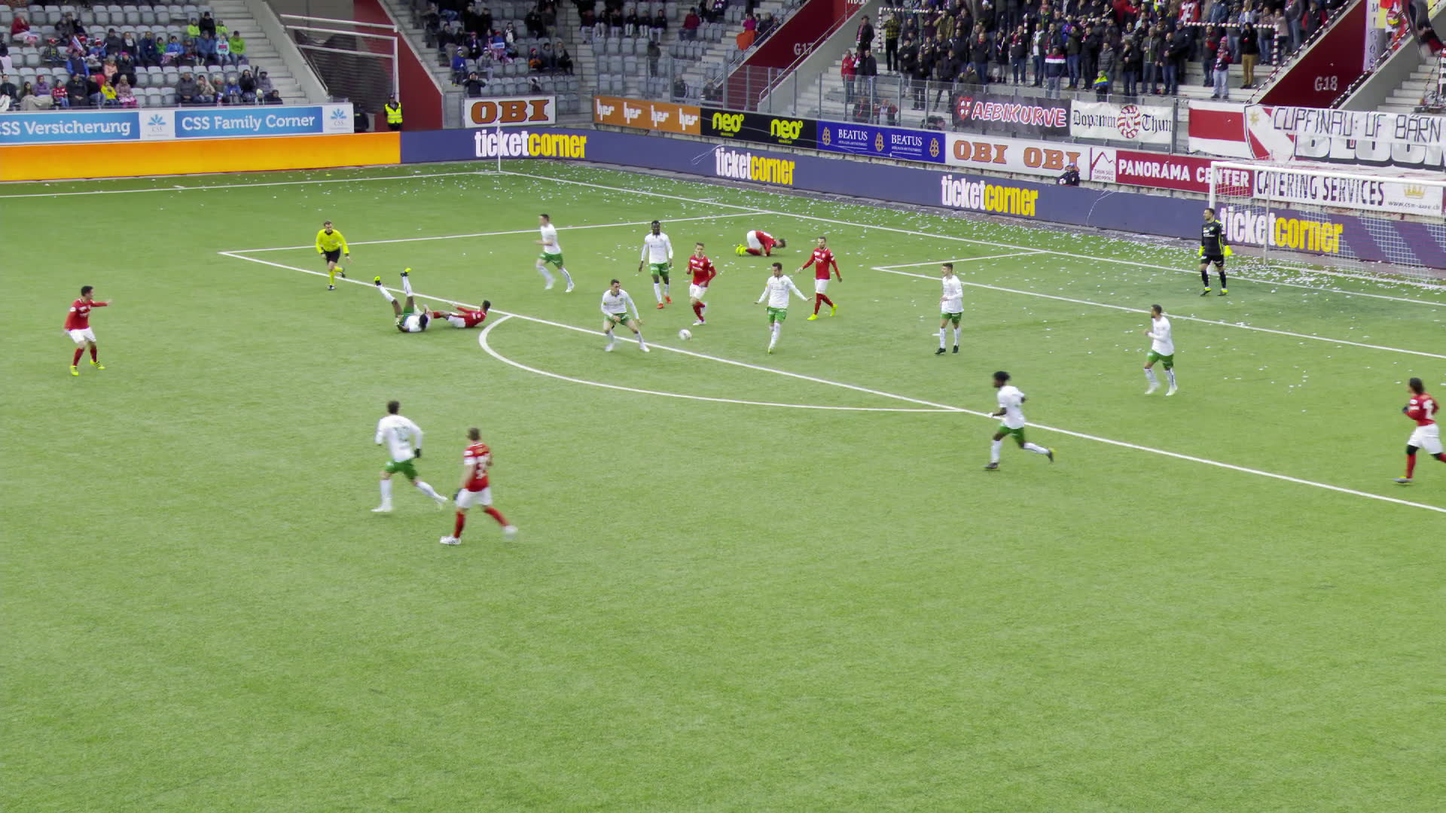ball: (678, 329, 692, 341)
player: (436, 425, 517, 545), (370, 399, 446, 514), (981, 371, 1055, 473), (1396, 375, 1445, 486), (757, 260, 811, 353), (61, 286, 116, 376), (599, 275, 651, 356), (797, 235, 845, 321), (375, 267, 428, 335), (1142, 303, 1179, 399), (1194, 207, 1232, 295), (636, 219, 673, 309), (933, 262, 965, 355), (683, 242, 717, 328), (538, 215, 575, 294), (415, 300, 492, 330), (732, 228, 786, 259)
referee: (314, 220, 352, 290)
